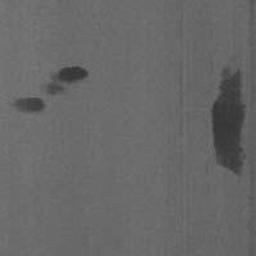Oil spot: (210, 50, 248, 178), (6, 65, 91, 115)
